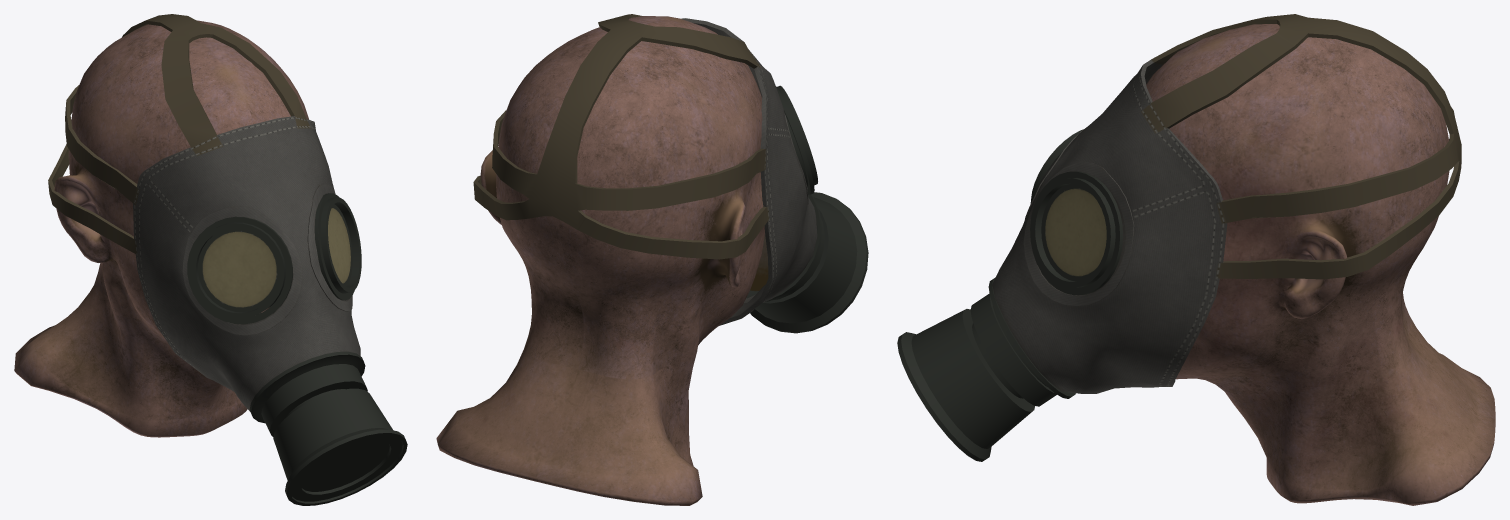
3 views of the same model, side by side, from view 1: azimuth 30°, elevation 25°; view 2: azimuth 150°, elevation 25°; view 3: azimuth 270°, elevation 25° (orthographic). The views are drawn at different scales.
Visible parts, largest first — view 1: gas mask, head, gas mask.001; view 2: head, gas mask; view 3: head, gas mask, gas mask.001.
Boxes of the visible parts, x1=… form: gas mask: x1=48, y1=14, x2=407, y2=505; head: x1=14, y1=20, x2=308, y2=437; gas mask.001: x1=202, y1=208, x2=350, y2=307; head: x1=436, y1=16, x2=764, y2=505; gas mask: x1=473, y1=14, x2=868, y2=333; head: x1=1146, y1=24, x2=1495, y2=505; gas mask: x1=897, y1=14, x2=1461, y2=461; gas mask.001: x1=1045, y1=188, x2=1106, y2=276.
Size of the model in its own units: 0.3392 by 0.5412 by 0.6443.
4 materials, 3 textured.
